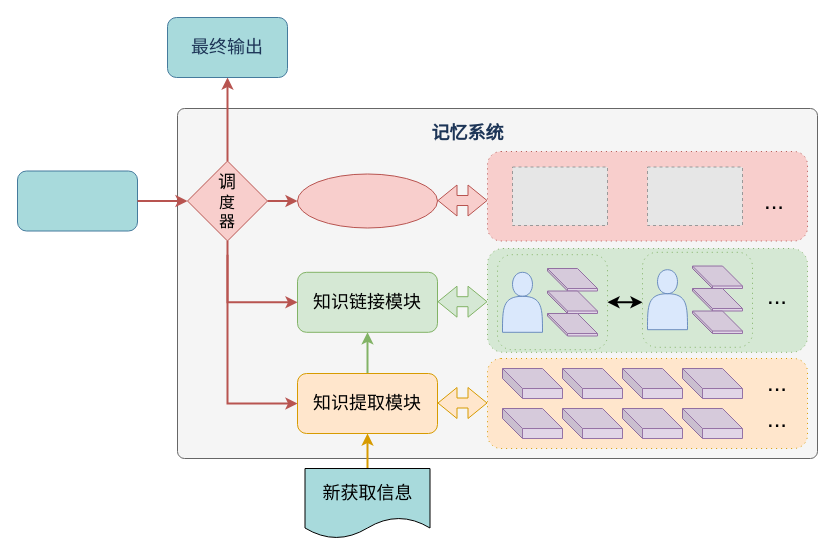
Some shapes in this 835 by 556 pixel diagram are drawn without their labels. Grey dashed boxes stand in for pictures. The centre of each missing label's shape, as x and y in pixels:
提问: (x=77, y=200)
知识调度队列: (x=367, y=200)
